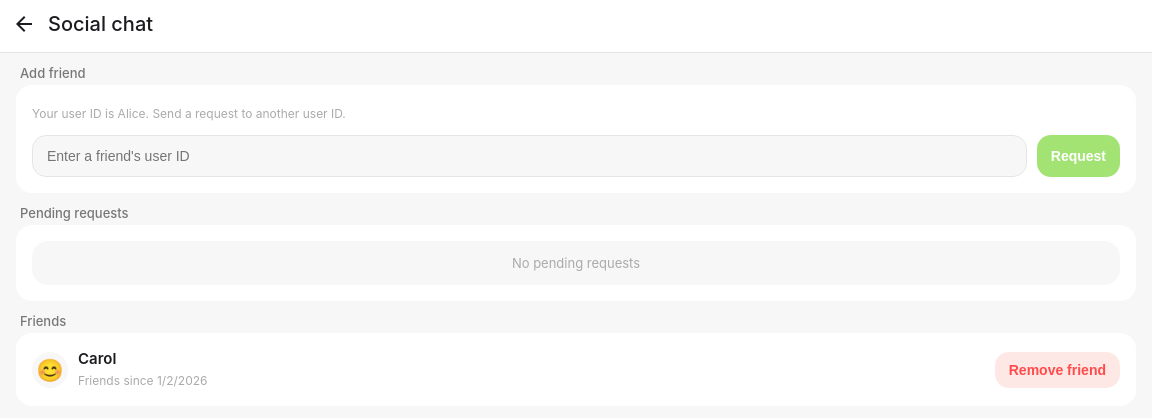
Test: SocialHub › removes a friend
What coordinates should you click on to do the following:
click the button with class "danger-btn"
I would click on:
 (1057, 370)
Its box is [995,352,1120,388].
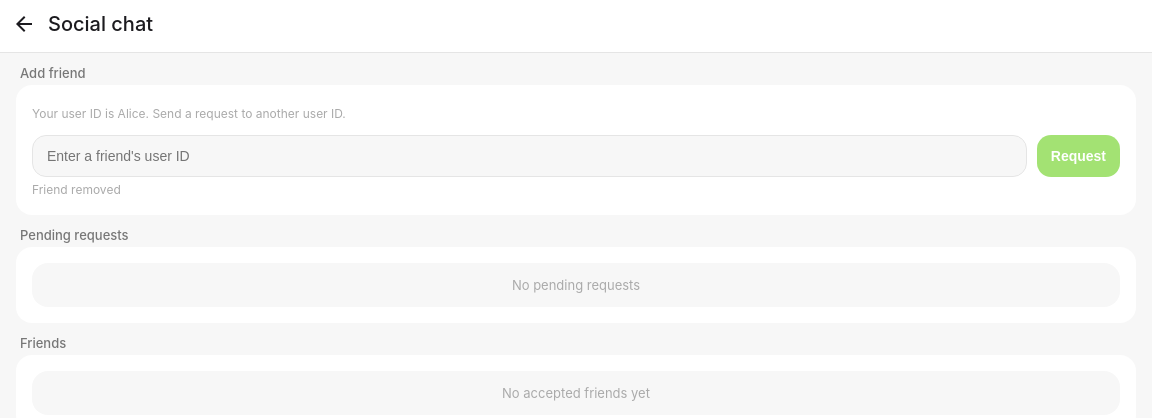
Expected: the text "Friend removed" is shown, [32,182,121,197]
